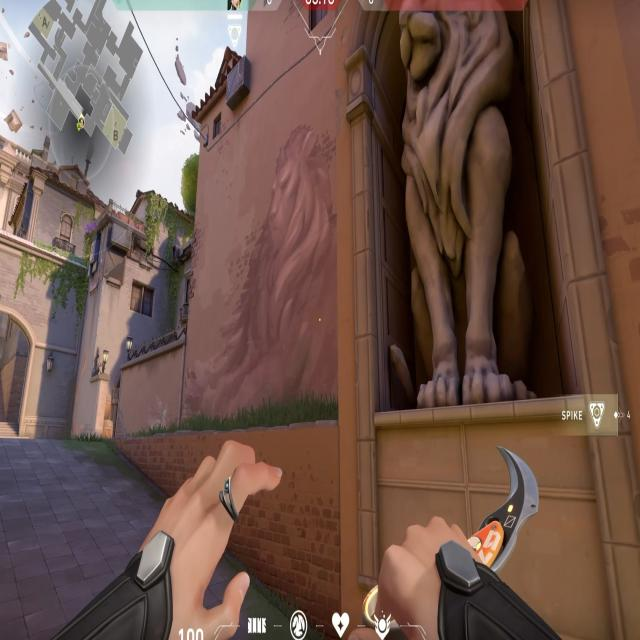Lion_Corner: (336, 0, 546, 409)
